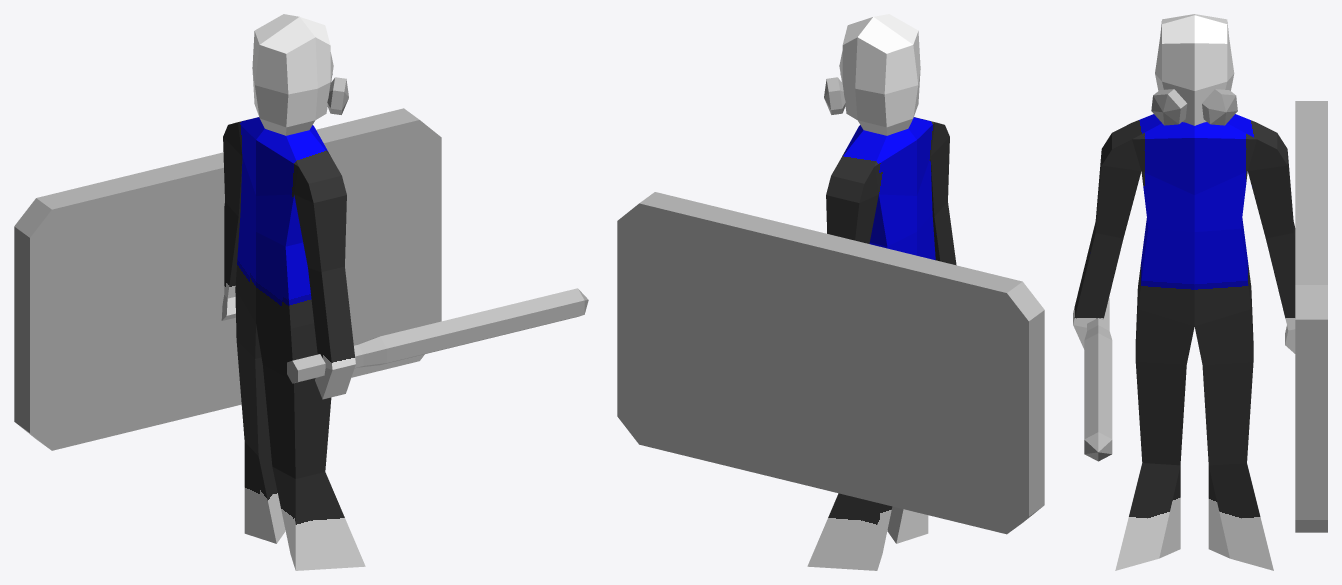
The model's file is enemy_enforcer.glb.
3 renders of one model, left to right at view 1: azimuth 30°, elevation 25°; view 2: azimuth 150°, elevation 25°; view 3: azimuth 270°, elevation 25°, orthographic. The views are drawn at different scales.
Visible parts, largest first — view 1: Cube, Body, Cylinder; view 2: Cube, Body, Cylinder.002; view 3: Body, Cube, Cylinder, Cylinder.001, Cylinder.002.
Boxes of the visible parts, left/top/right/bottom form: Cube: left=14, top=108, right=441, bottom=450; Body: left=221, top=14, right=365, bottom=570; Cylinder: left=287, top=288, right=588, bottom=383; Cube: left=617, top=192, right=1044, bottom=534; Body: left=807, top=14, right=956, bottom=570; Cylinder.002: left=824, top=77, right=845, bottom=114; Body: left=1073, top=14, right=1295, bottom=570; Cube: left=1295, top=101, right=1327, bottom=532; Cylinder: left=1084, top=298, right=1112, bottom=461; Cylinder.001: left=1151, top=89, right=1187, bottom=125; Cylinder.002: left=1202, top=89, right=1237, bottom=125.
Bounding box in the file's own units: 2.11 × 2.3 × 0.9799.
Materials: 2 (2 with a texture image).
